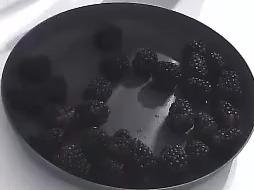berry: (166, 98, 195, 136), (54, 145, 90, 172), (7, 89, 44, 114), (217, 65, 243, 97), (17, 56, 50, 81), (53, 105, 84, 131), (179, 77, 211, 102), (152, 61, 180, 88), (132, 48, 157, 78), (130, 139, 156, 167), (183, 47, 207, 77), (94, 25, 121, 51), (100, 57, 128, 82), (159, 144, 187, 169), (82, 126, 109, 151), (194, 112, 218, 138), (215, 101, 238, 127), (84, 78, 111, 100), (46, 76, 66, 104), (109, 129, 132, 153), (213, 127, 240, 147), (82, 102, 110, 121), (208, 52, 224, 78), (185, 140, 208, 158), (101, 160, 124, 177), (46, 127, 64, 144), (189, 40, 206, 53)
